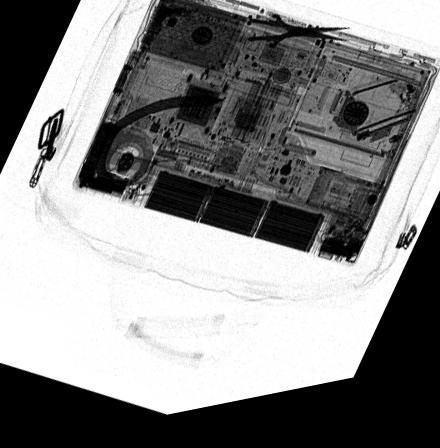Scissors: (239, 21, 353, 61)
